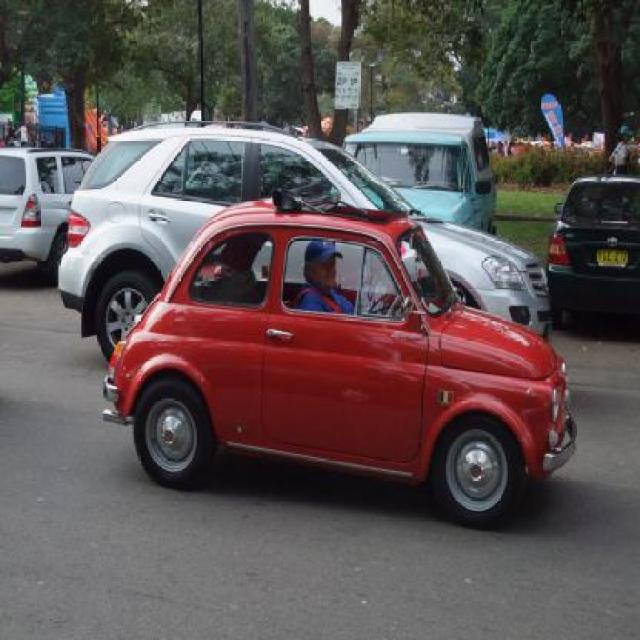License-Plates: (596, 248, 628, 268)
